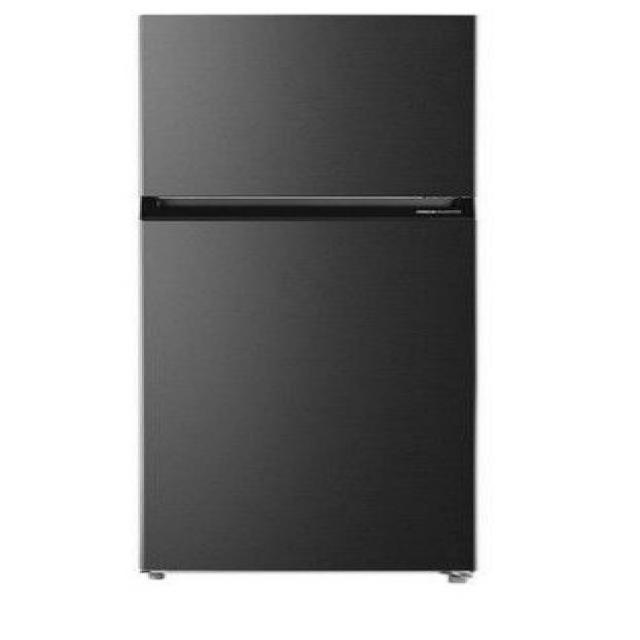refrigerator: (140, 15, 477, 572)
